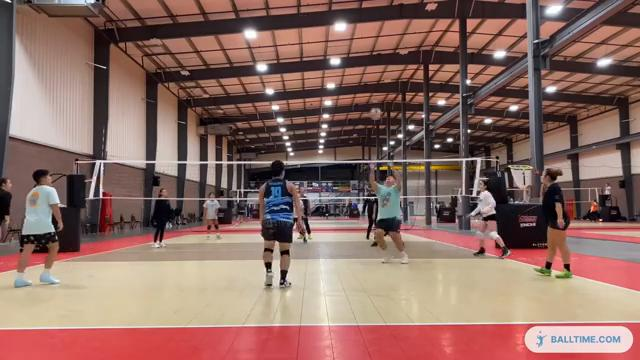Player: (14, 169, 62, 287), (259, 160, 301, 286), (535, 168, 571, 278), (469, 180, 510, 258), (152, 188, 173, 247), (203, 192, 220, 239), (0, 178, 11, 241), (363, 191, 377, 239), (300, 188, 311, 239), (294, 207, 303, 223)
Set: (358, 157, 424, 270)
ball: (371, 108, 381, 120)
